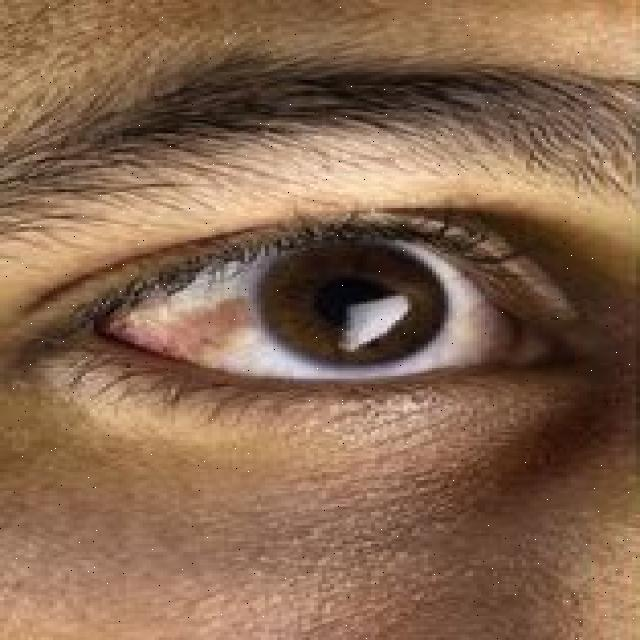Normal: (252, 236, 447, 368)
